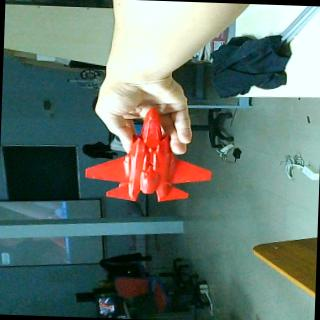Jet: (82, 104, 214, 204)
